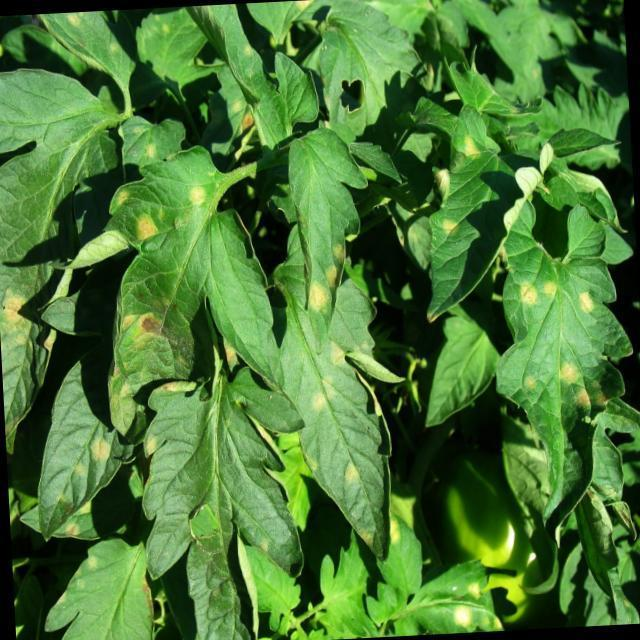Mosaic Virus: (42, 353, 145, 540), (506, 262, 610, 437), (308, 341, 376, 540), (115, 170, 219, 250), (430, 136, 492, 263), (298, 202, 353, 316), (0, 266, 54, 356), (58, 534, 112, 622)
